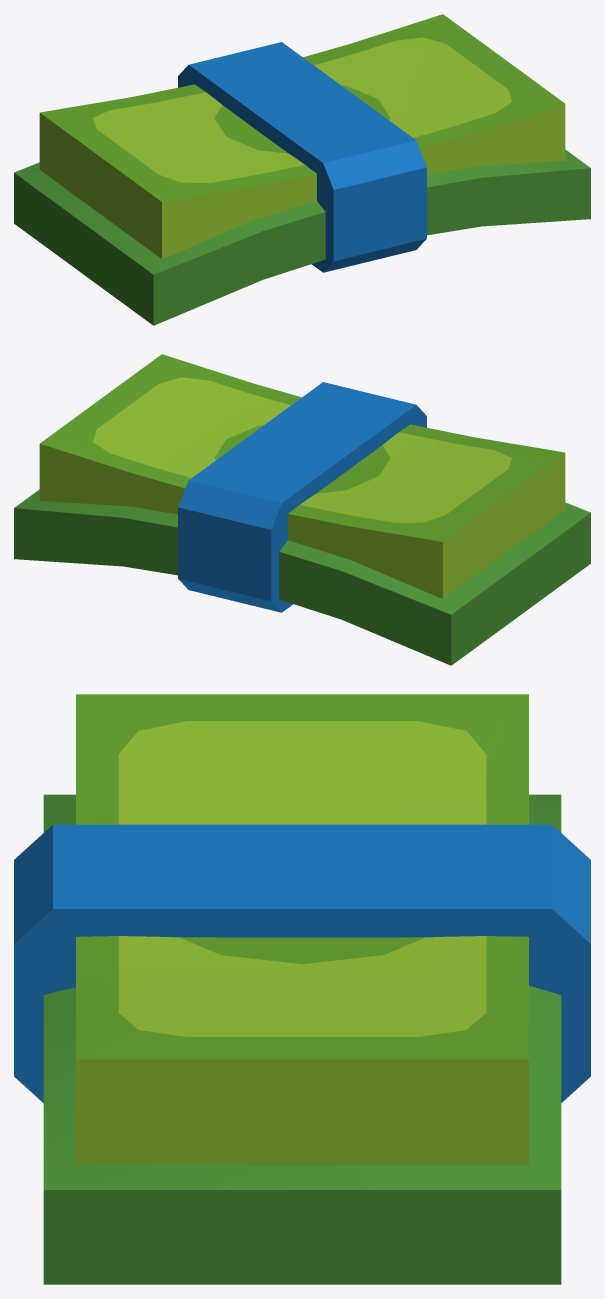
File: Money_Stack.fbx
The picture shows the model from 3 angles, top to bottom: view 1: azimuth 30°, elevation 25°; view 2: azimuth 150°, elevation 25°; view 3: azimuth 270°, elevation 25°; orthographic projection. The views are drawn at different scales.
Visible parts, largest first — view 1: Money_Stack; view 2: Money_Stack; view 3: Money_Stack.
Boxes of the visible parts, x1,y1,x2,y2 form: Money_Stack: (14, 14, 590, 325); Money_Stack: (14, 354, 590, 665); Money_Stack: (14, 694, 590, 1284).
Bounding box in the file's own units: 107 × 27.77 × 65.98.
